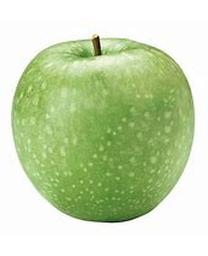apple: (9, 35, 195, 222)
